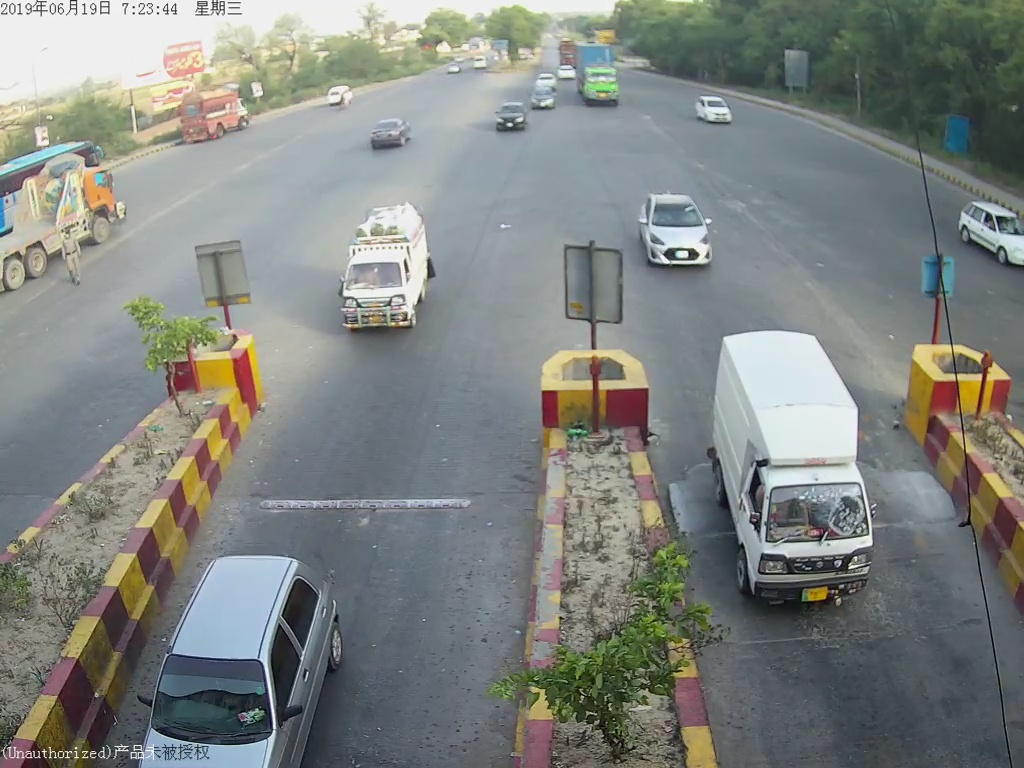Cat-1: (705, 326, 893, 619), (133, 541, 362, 768), (336, 203, 443, 345), (638, 188, 719, 286)
